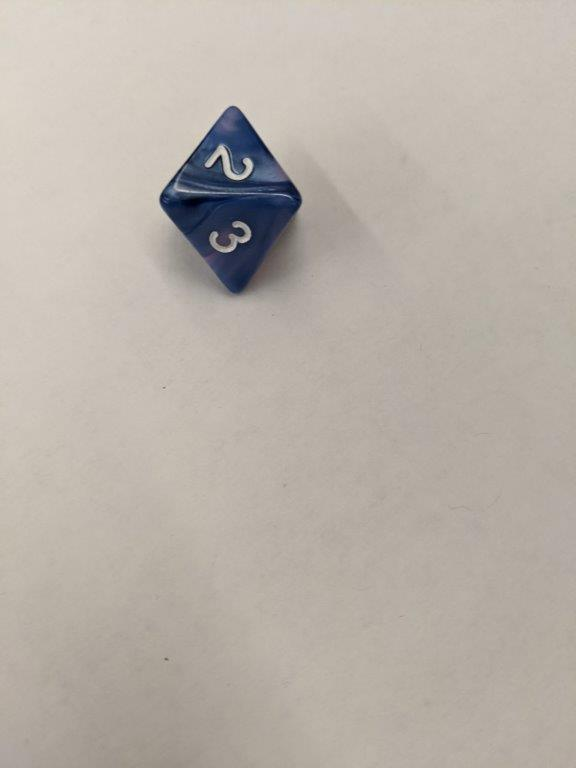d8-2: (157, 106, 305, 298)
